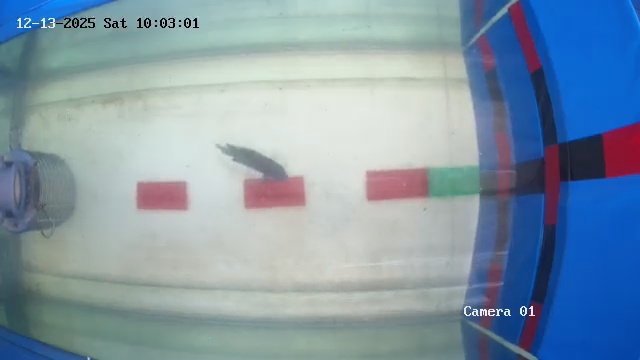fish: (218, 130, 291, 193)
